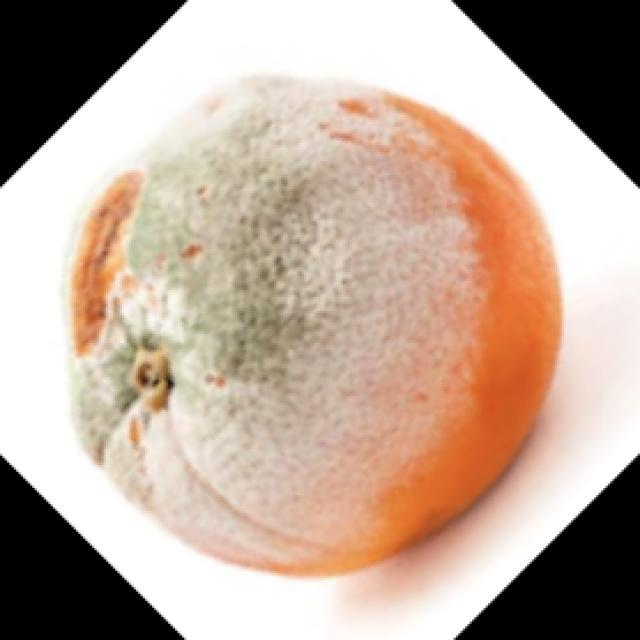sangat-busuk: (69, 76, 560, 575)
